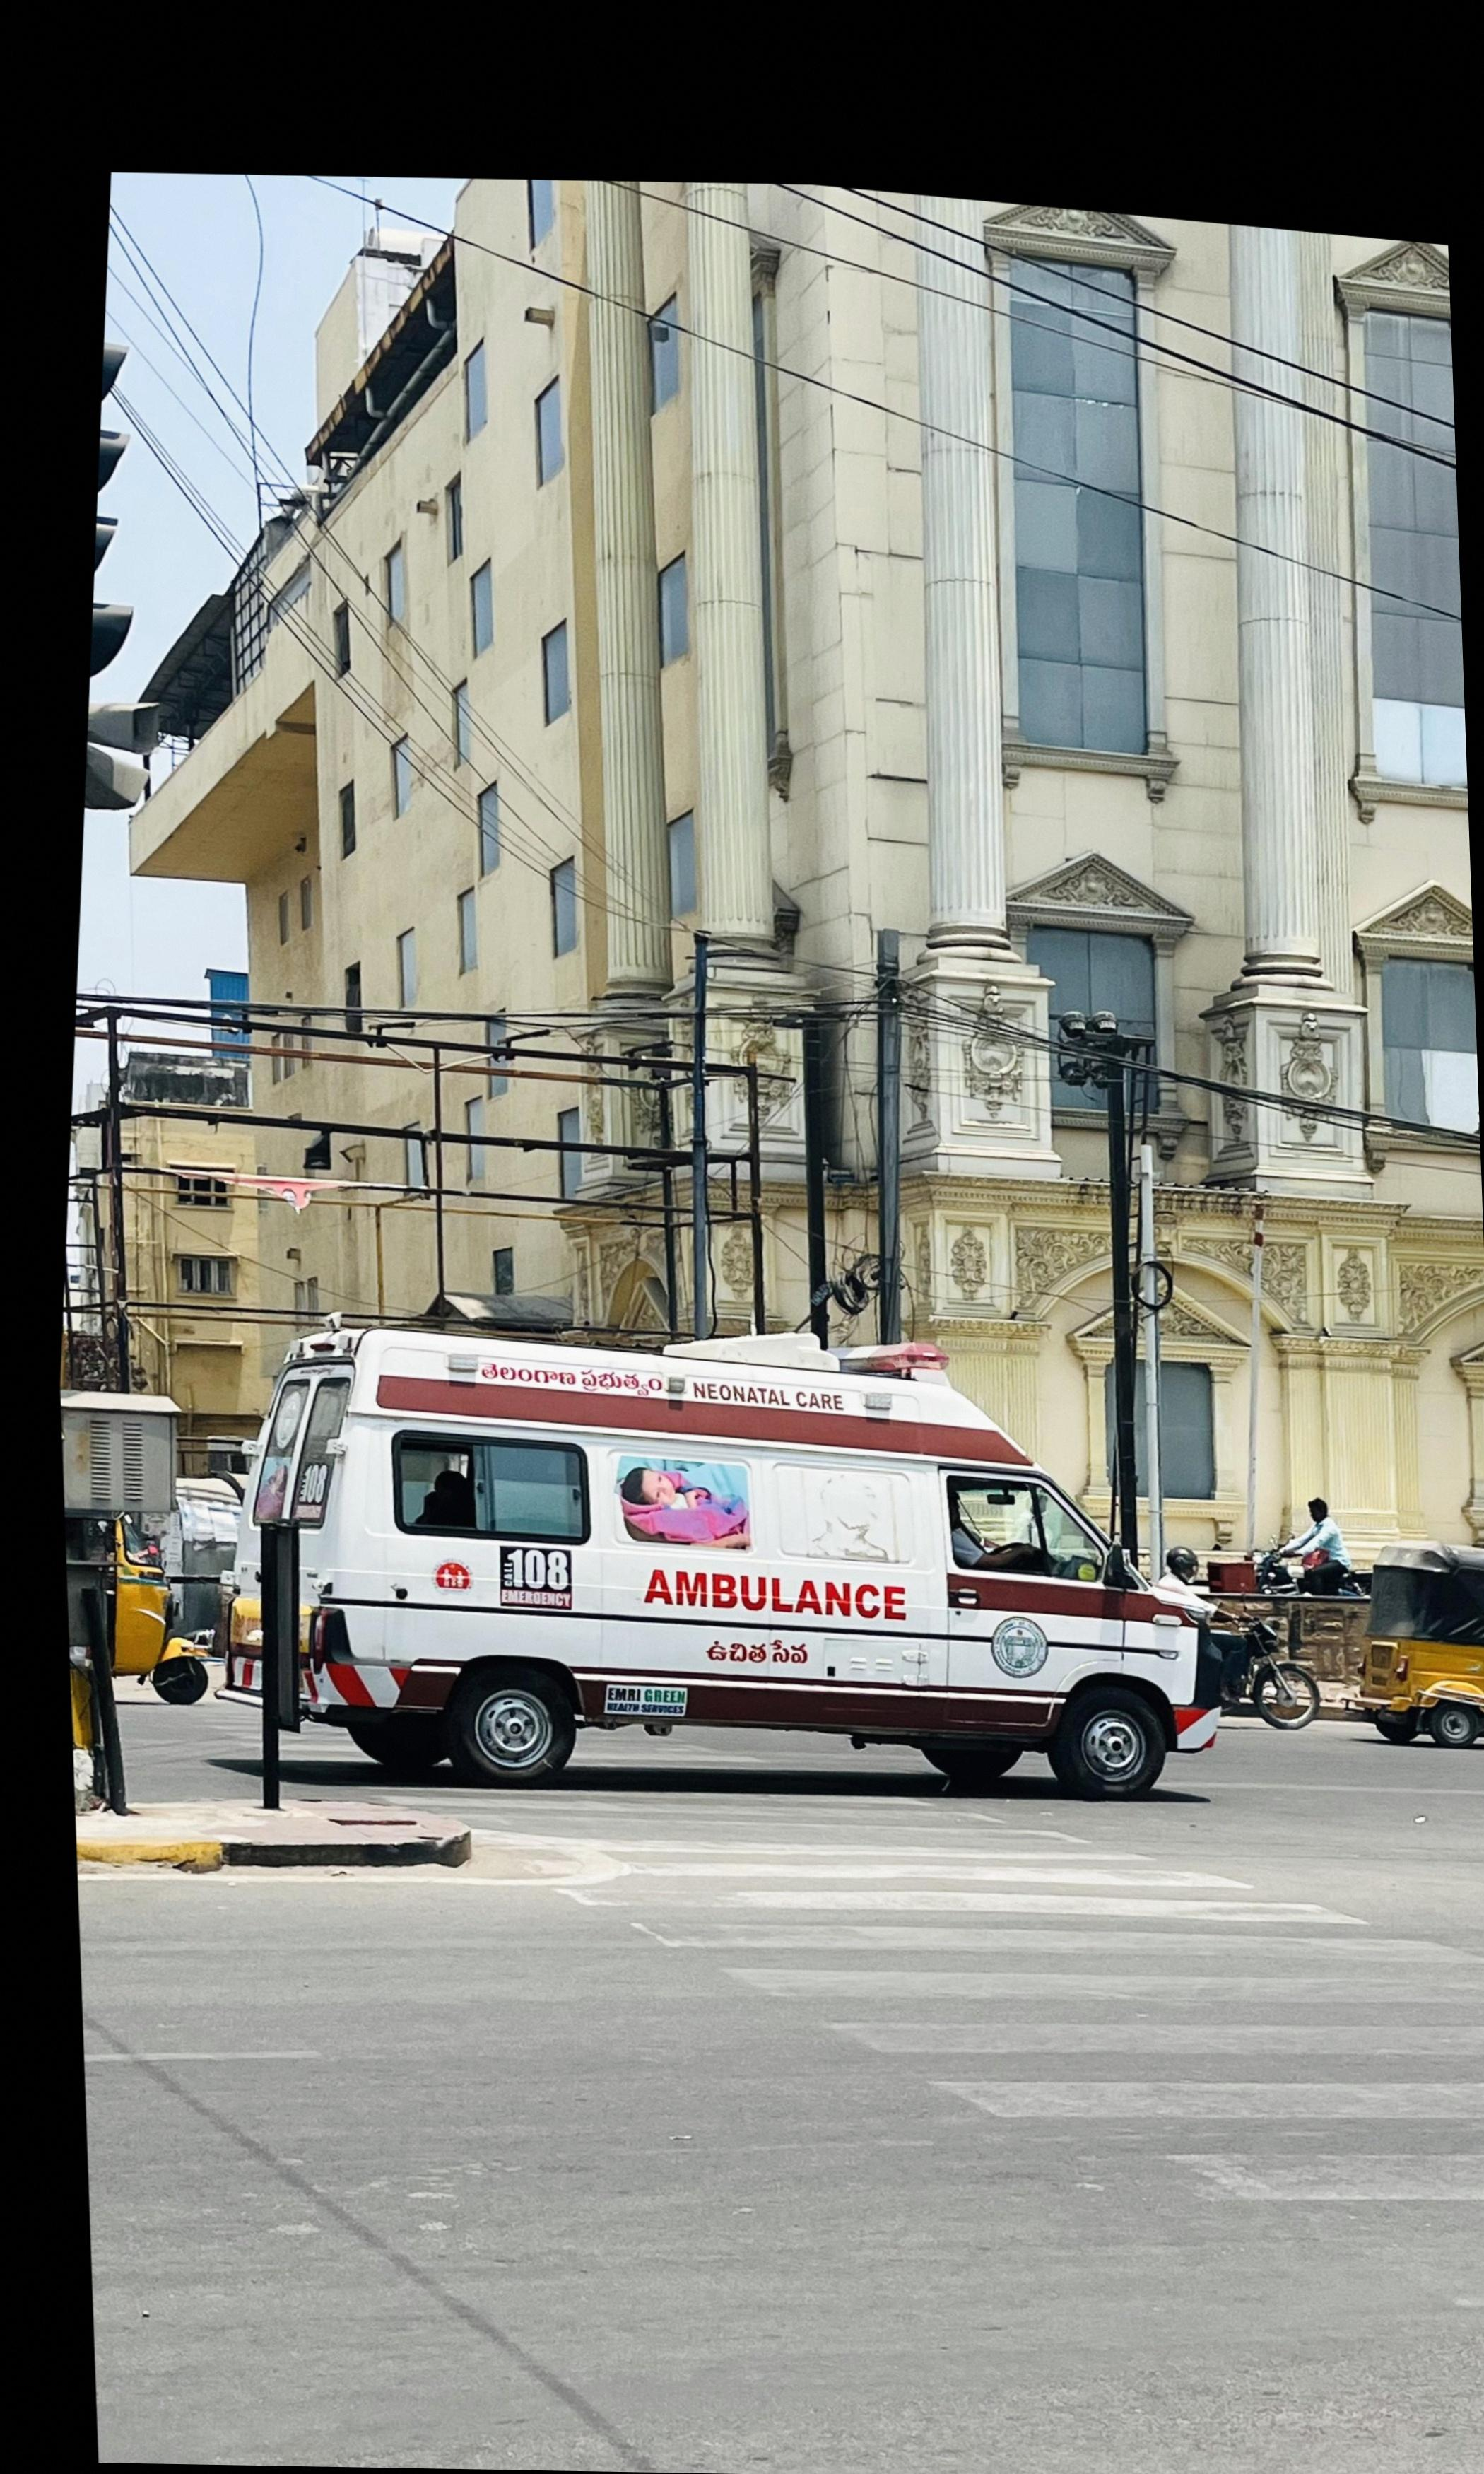ambulance: (258, 1329, 1210, 1801)
